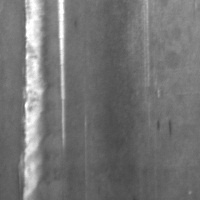scratches: (17, 1, 51, 200), (55, 1, 71, 151)
